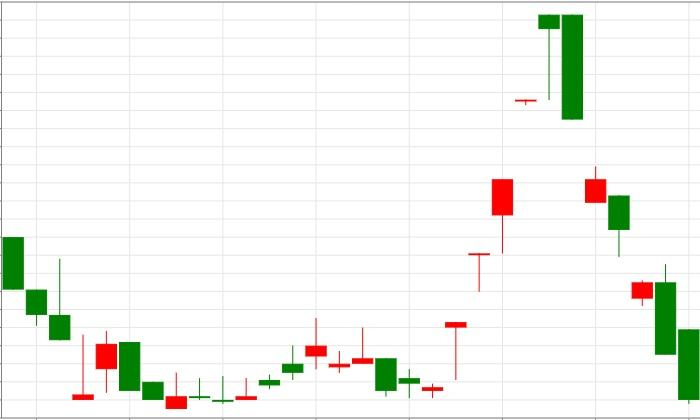hanging_man_fall: (421, 14, 561, 399)
